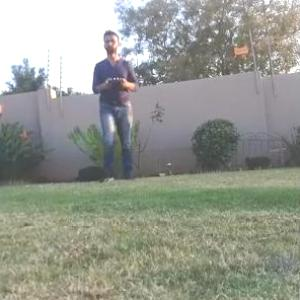follow: (89, 23, 143, 189)
